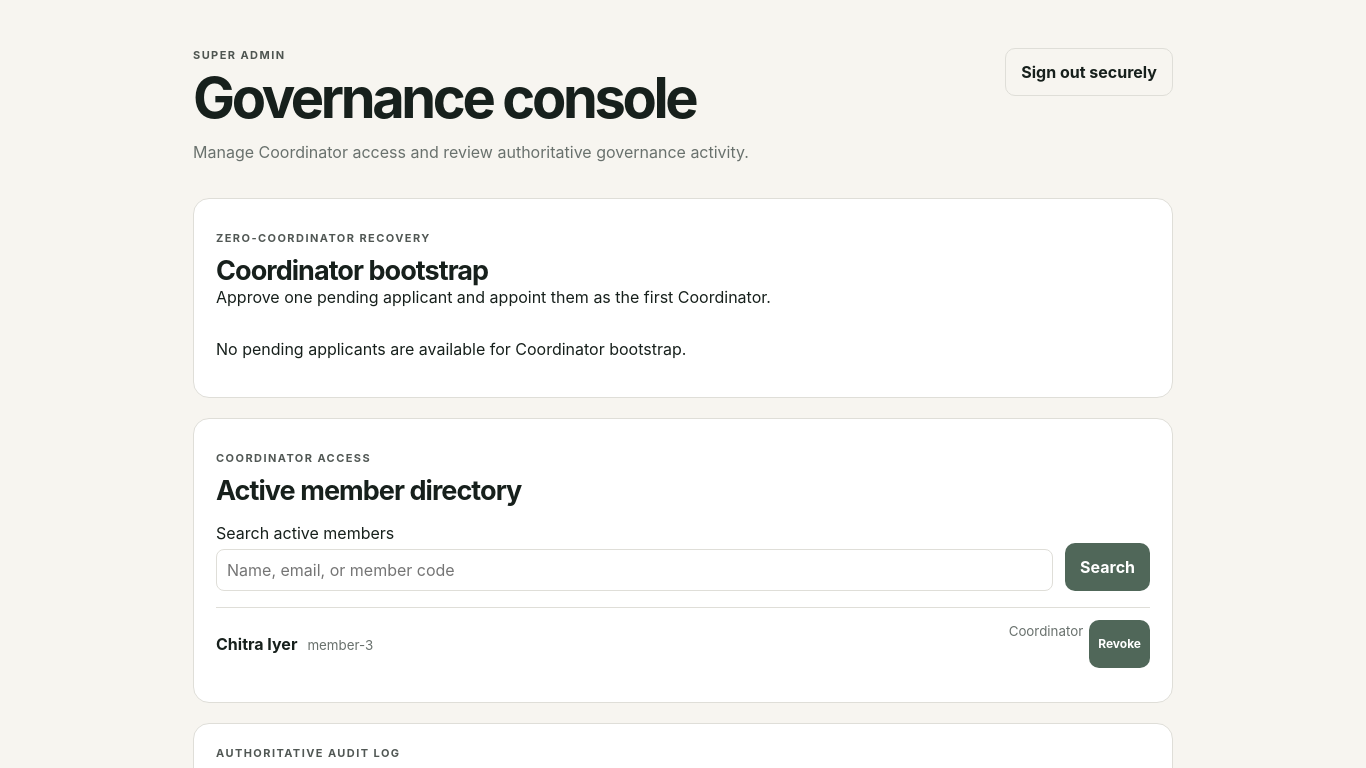
Test: SuperAdminConsole › requires confirmation, a reason, and reauthentication before revoking a Coordinator
Step 1. Click the button with aria-label "Revoke Coordinator from Chitra Iyer" → x=1120, y=644, box [1089, 620, 1150, 668]
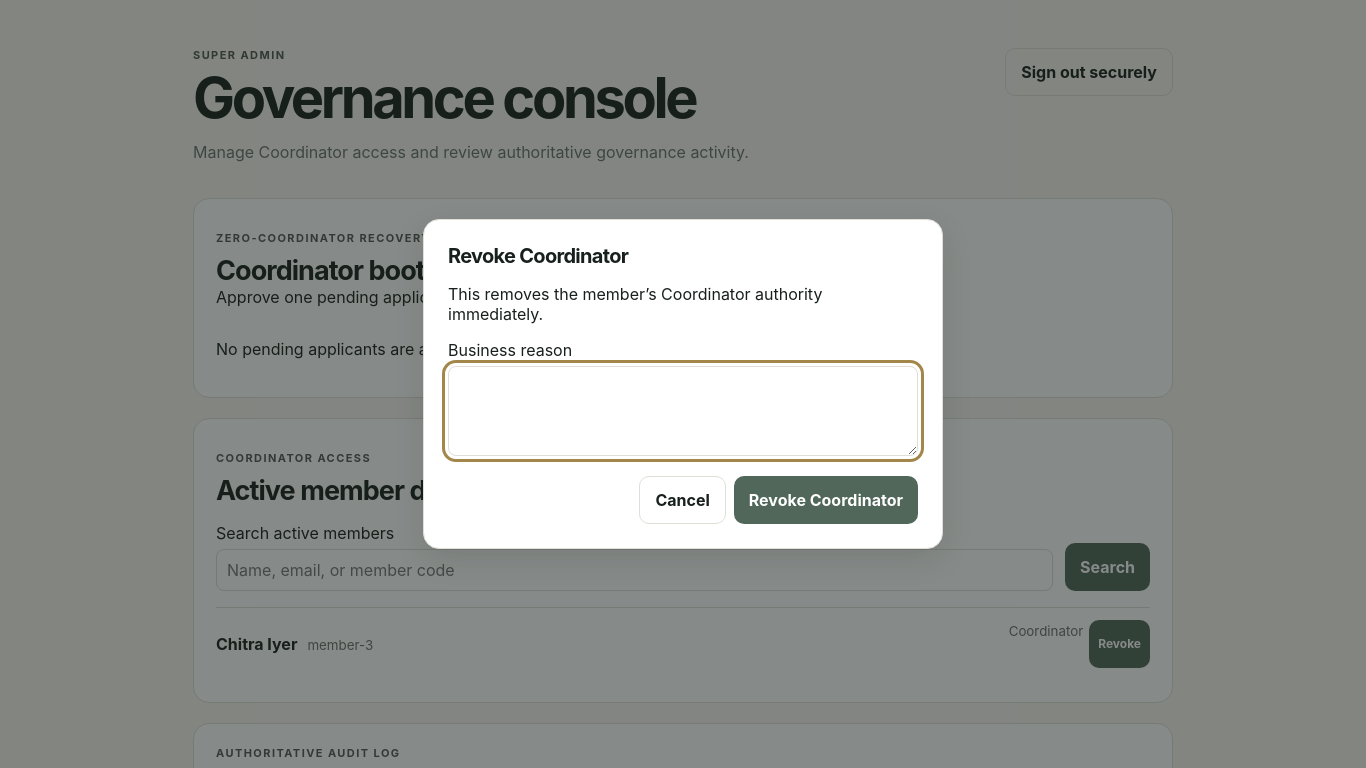
Step 2. Type "Coordinator rotation" into the text box labelled "Business reason" → x=683, y=411, box [448, 366, 918, 456]
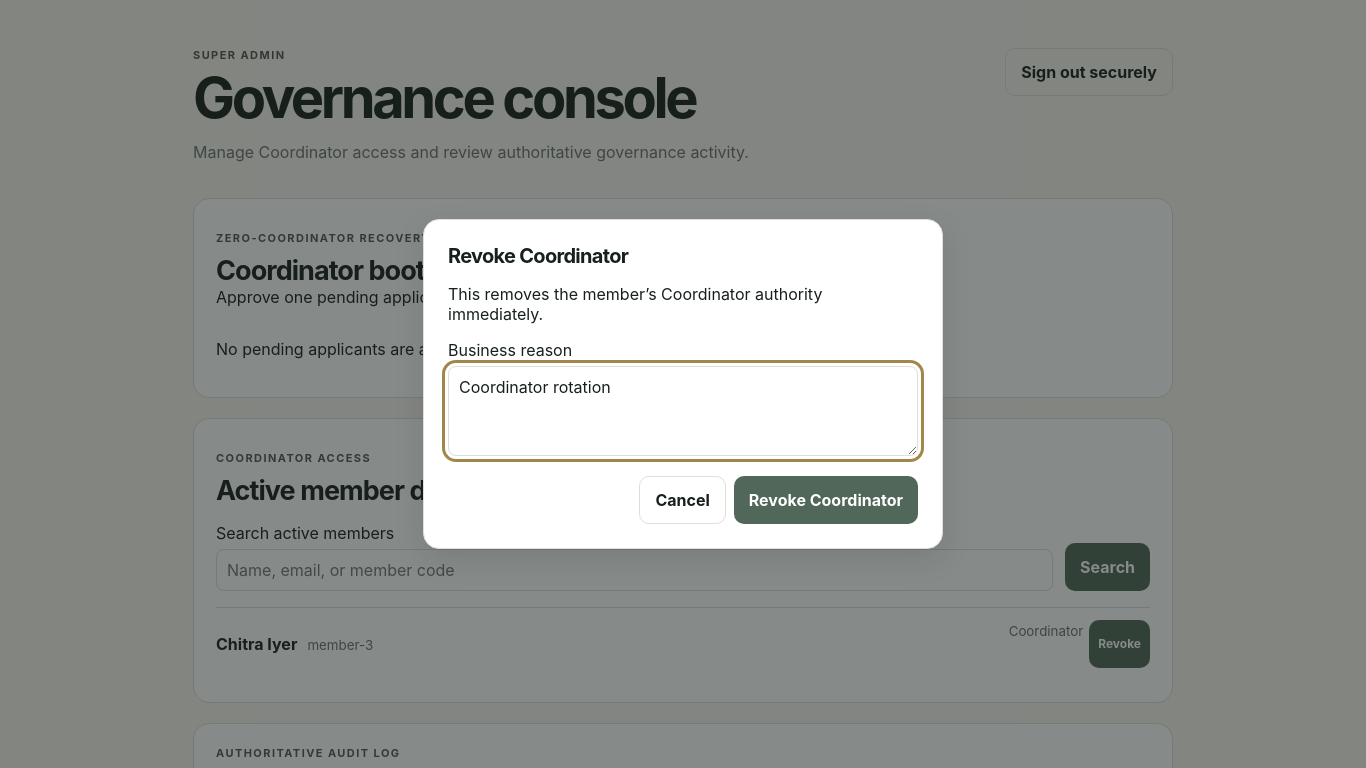
Step 3. Click the button "Revoke Coordinator" → x=826, y=500, box [734, 476, 918, 524]
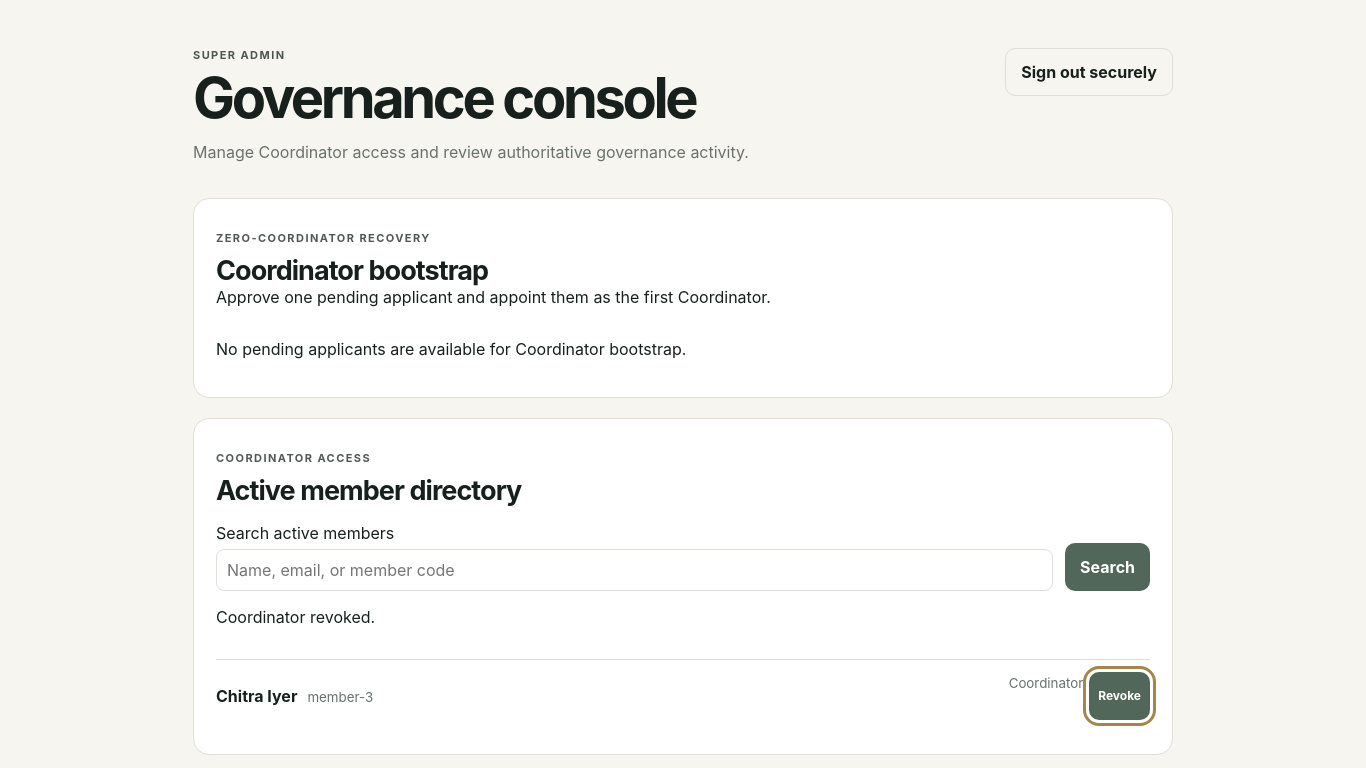
Expected: the message reads "Coordinator revoked.", [216, 607, 375, 627]
